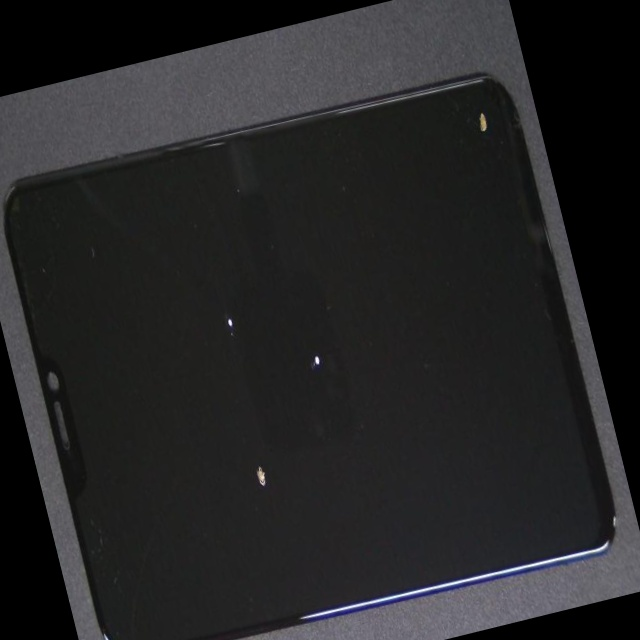stain: (162, 153, 520, 521), (123, 233, 417, 640), (70, 107, 356, 473), (235, 58, 549, 233)
